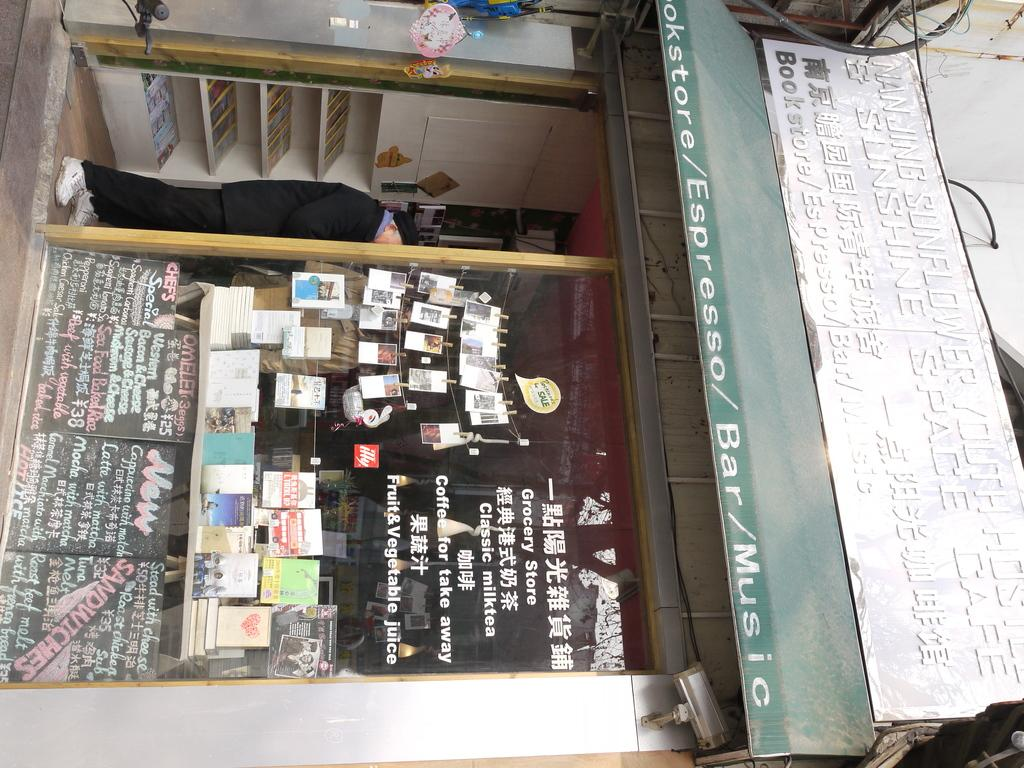book: (210, 84, 238, 124)
